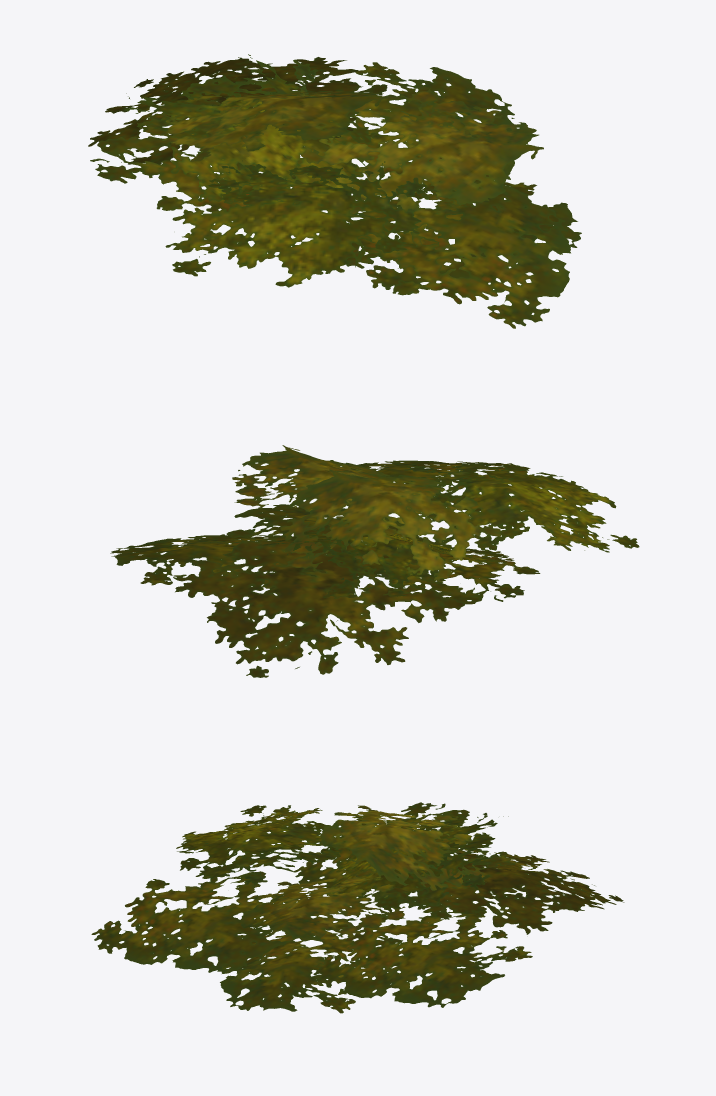
File: fxmg_zhiwu3.FBX
3 renders of one model, top to bottom at view 1: azimuth 30°, elevation 25°; view 2: azimuth 150°, elevation 25°; view 3: azimuth 270°, elevation 25°, orthographic. The views are drawn at different scales.
Visible parts, largest first — view 1: KLMSM_zhiwu3; view 2: KLMSM_zhiwu3; view 3: KLMSM_zhiwu3.
Boxes of the visible parts, <box> form: KLMSM_zhiwu3: <box>88,54,581,328</box>; KLMSM_zhiwu3: <box>110,445,639,677</box>; KLMSM_zhiwu3: <box>91,802,624,1013</box>.
Size of the model in its own units: 48.42 by 11.29 by 56.42.
